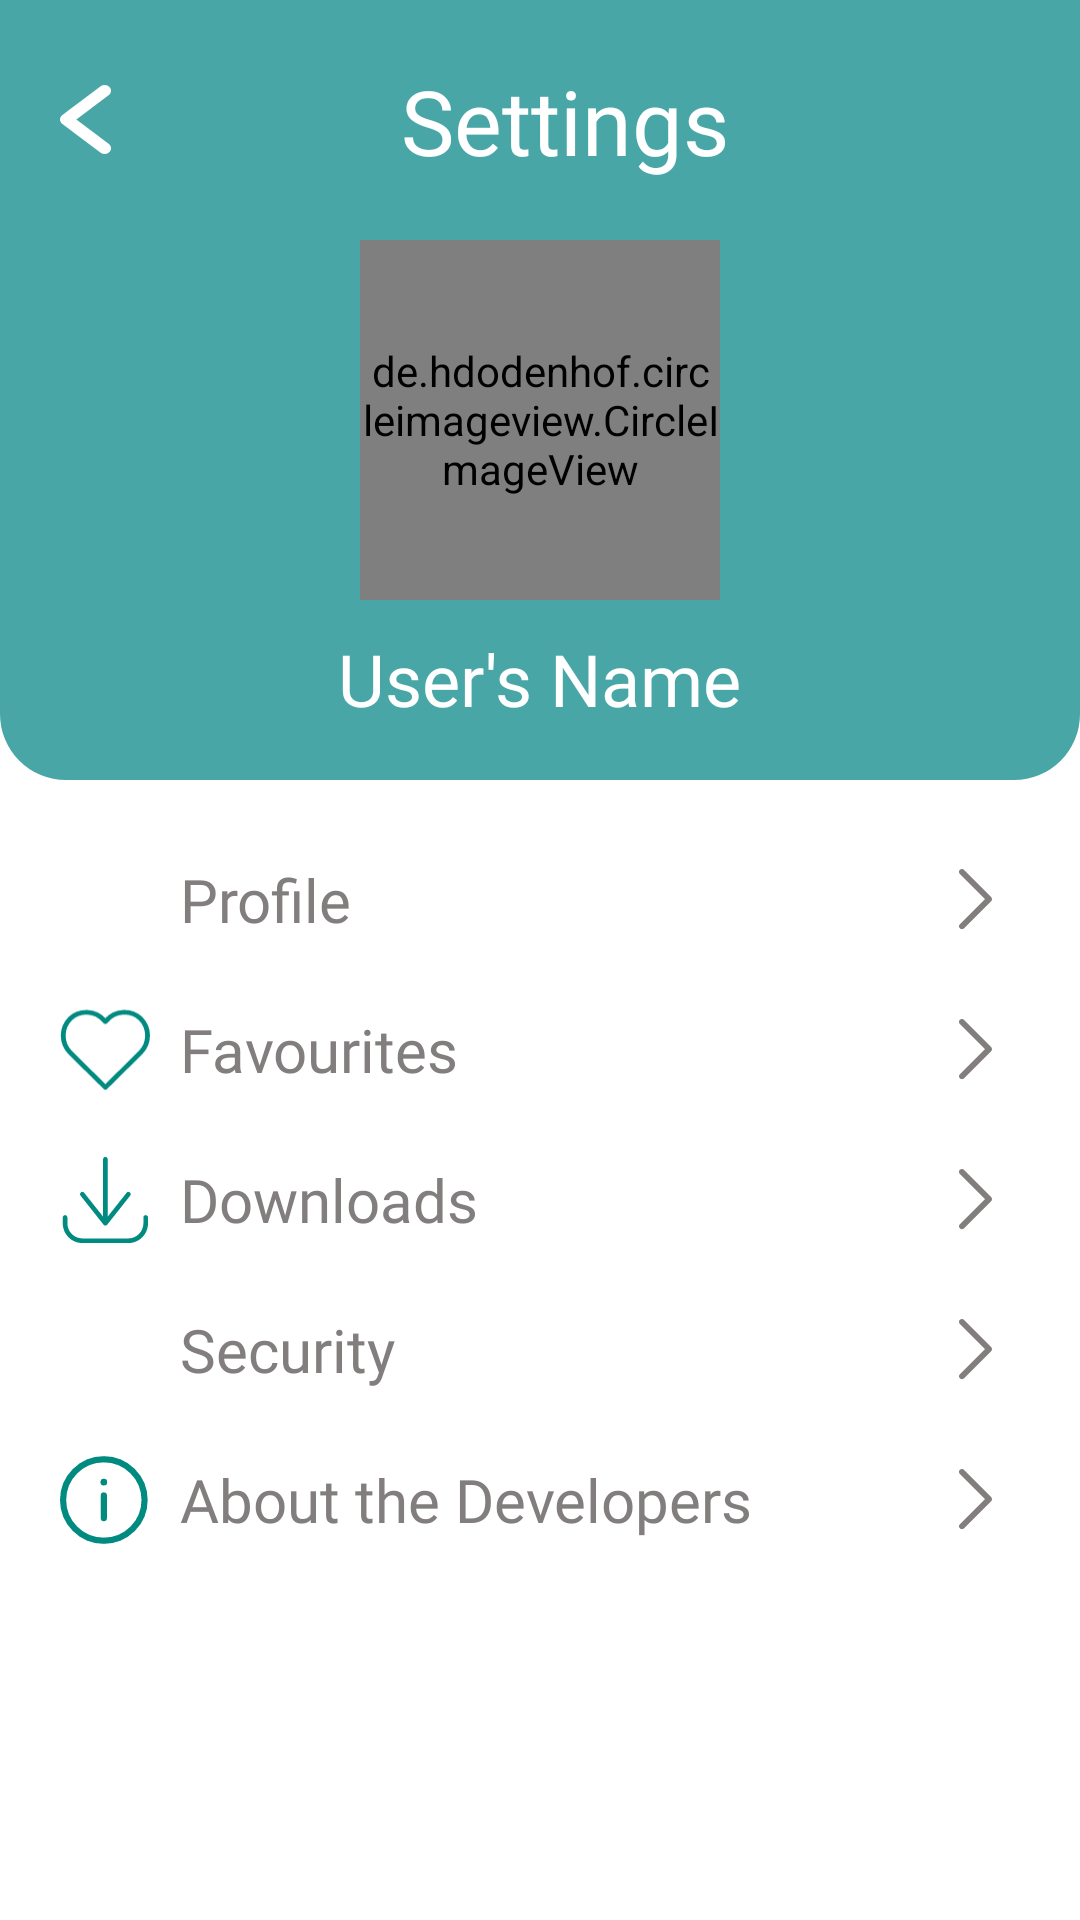

Icons on this 1080 x 1920 Android screen, each with the point to tap as [x,y]:
arrow back: [85,119]
